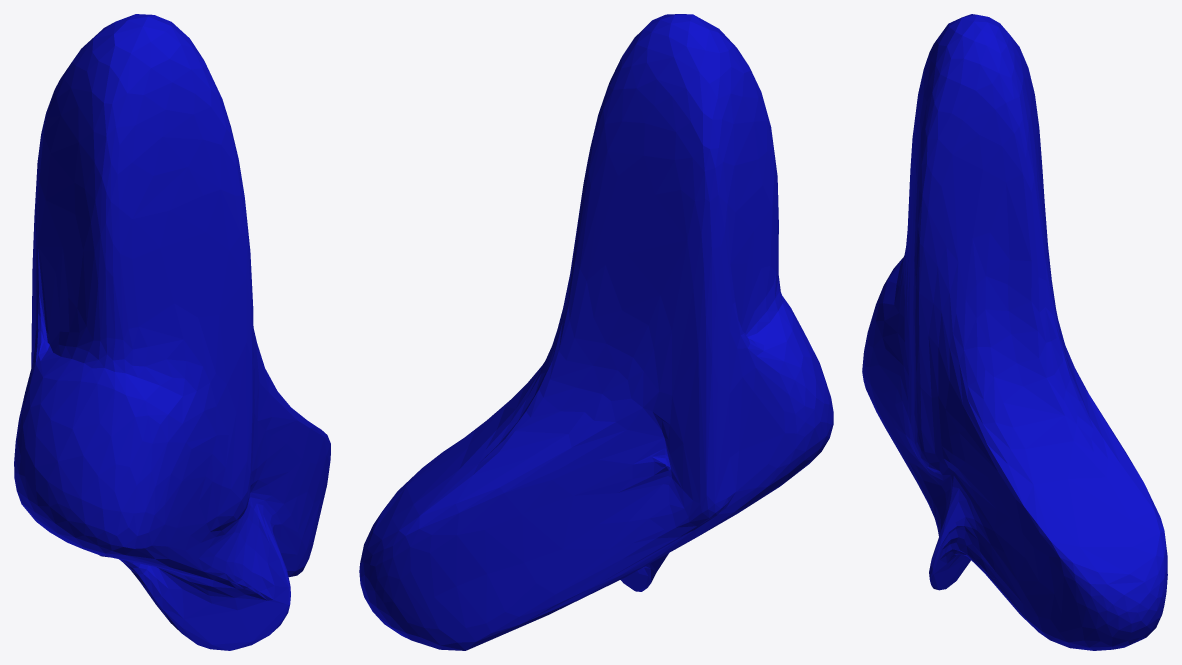
3 views of the same model, side by side, from view 1: azimuth 30°, elevation 25°; view 2: azimuth 150°, elevation 25°; view 3: azimuth 270°, elevation 25° (orthographic). The views are drawn at different scales.
Parts seen in each view (by area): view 1: 333_Cube.1363; view 2: 333_Cube.1363; view 3: 333_Cube.1363.
Part boxes in pixels (<box>): 333_Cube.1363: <box>14,14,330,650</box>; 333_Cube.1363: <box>359,14,833,650</box>; 333_Cube.1363: <box>862,14,1167,650</box>.
Size of the model in its own units: 9.22 by 14.61 by 7.44.
